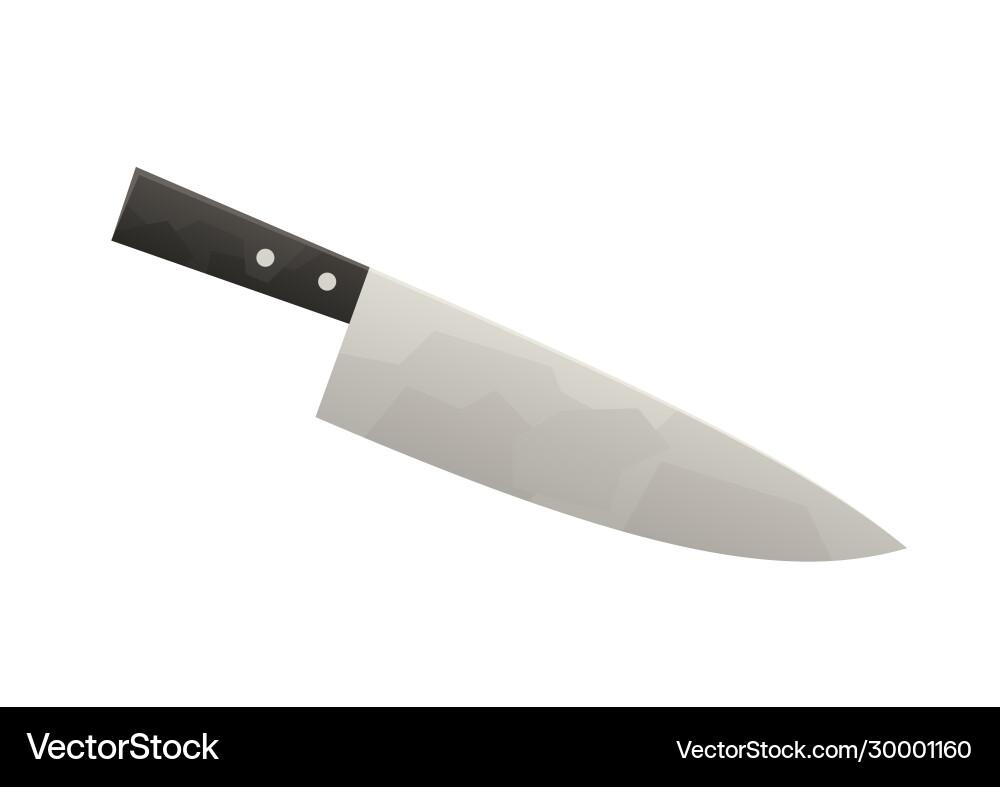Knife: (111, 165, 907, 563)
